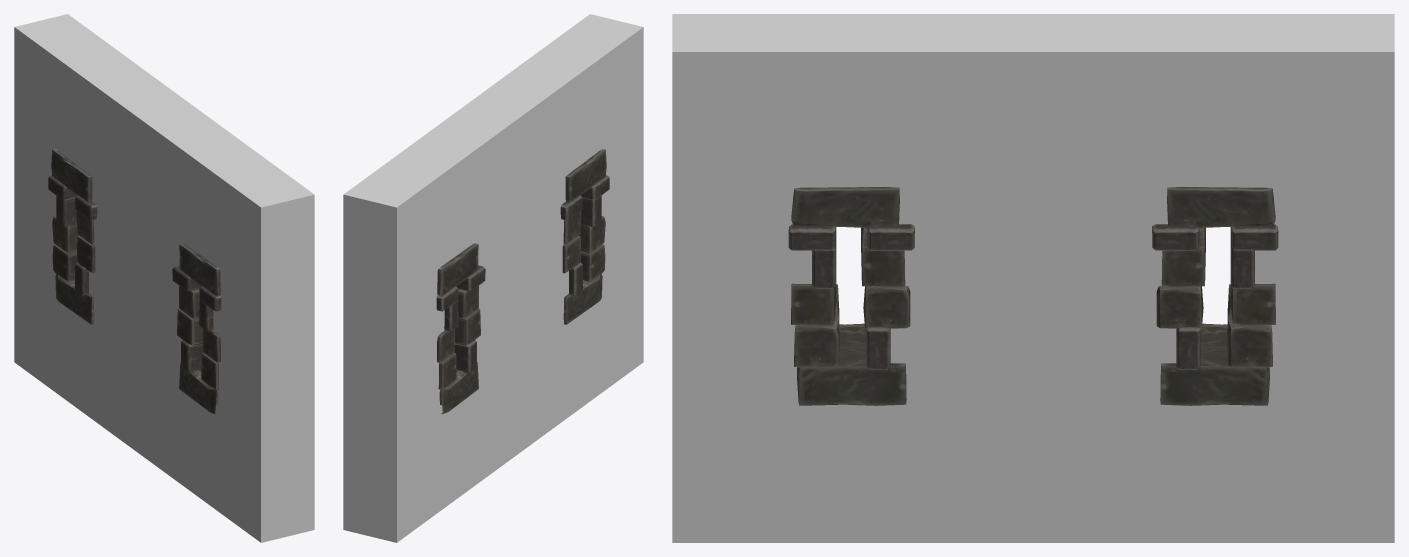
3 renders of one model, left to right at view 1: azimuth 30°, elevation 25°; view 2: azimuth 150°, elevation 25°; view 3: azimuth 270°, elevation 25°, orthographic. The views are drawn at different scales.
Visible parts, largest first — view 1: SM_Dowdun_Wall_8x6_02_LOD0; view 2: SM_Dowdun_Wall_8x6_02_LOD0; view 3: SM_Dowdun_Wall_8x6_02_LOD0.
Part boxes in pixels (<box>): SM_Dowdun_Wall_8x6_02_LOD0: <box>14,14,314,542</box>; SM_Dowdun_Wall_8x6_02_LOD0: <box>343,14,643,542</box>; SM_Dowdun_Wall_8x6_02_LOD0: <box>672,14,1394,542</box>.
Bounding box in the file's own units: 1.28 × 6 × 8.
Materials: 2 (1 with a texture image).
